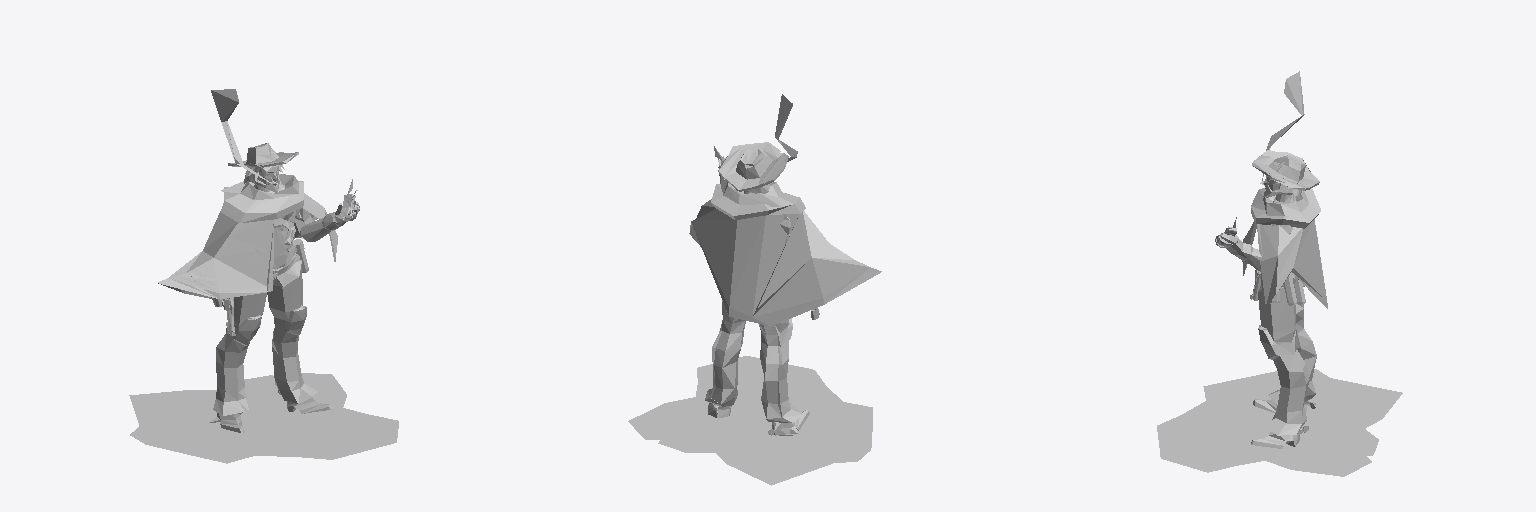
Rendered from mccreescetchfab.obj.
The picture shows the model from 3 angles: view 1: azimuth 30°, elevation 25°; view 2: azimuth 150°, elevation 25°; view 3: azimuth 270°, elevation 25°; orthographic projection.
Visible parts, largest first — view 1: Cylinder.001, mccree_Cylinder, Cylinder_Cylinder.002; view 2: Cylinder.001, mccree_Cylinder, Cylinder_Cylinder.002; view 3: Cylinder.001, mccree_Cylinder, Cylinder_Cylinder.002.
Boxes of the visible parts, box(x1,y1,x2,y2) form: Cylinder.001: box(129, 174, 398, 463); mccree_Cylinder: box(209, 89, 359, 432); Cylinder_Cylinder.002: box(228, 143, 298, 167); Cylinder.001: box(628, 180, 881, 485); mccree_Cylinder: box(705, 94, 809, 435); Cylinder_Cylinder.002: box(718, 142, 788, 191); Cylinder.001: box(1157, 188, 1402, 476); mccree_Cylinder: box(1215, 71, 1316, 448); Cylinder_Cylinder.002: box(1252, 150, 1319, 190).
Bounding box in the file's own units: 1.99 × 2.97 × 1.96.